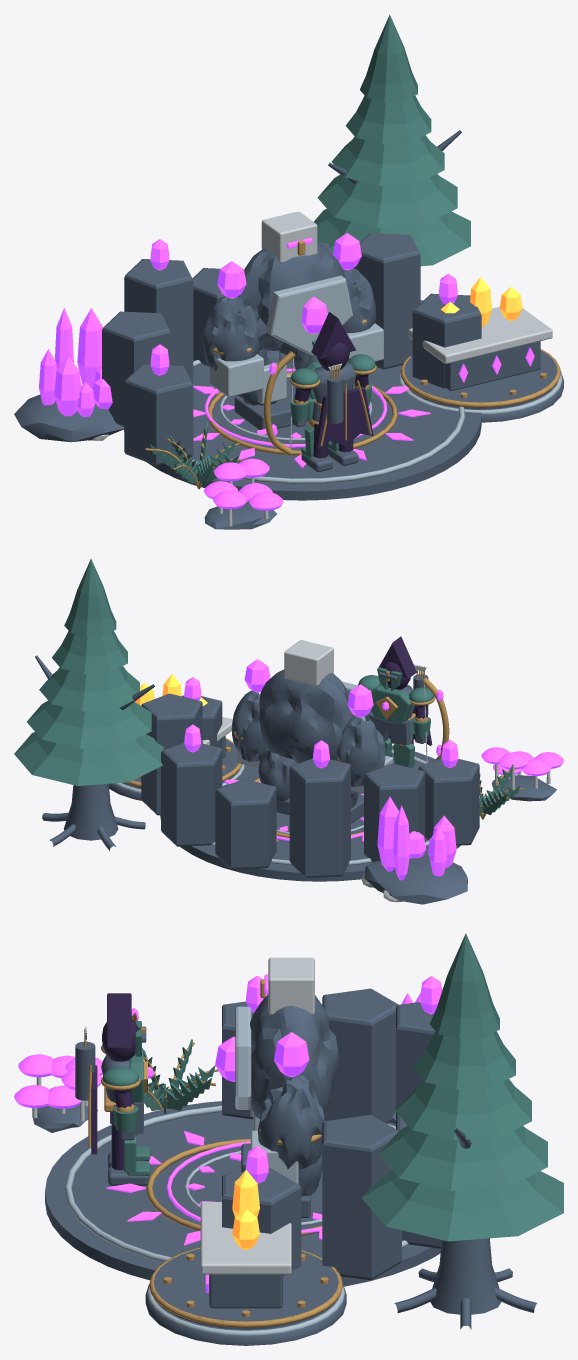
The model's file is moonsteel-convergence-obsidian-boss-pit-522724e0__18221.glb.
The picture shows the model from 3 angles, top to bottom: view 1: azimuth 30°, elevation 25°; view 2: azimuth 150°, elevation 25°; view 3: azimuth 270°, elevation 25°; orthographic projection. The views are drawn at different scales.
Visible parts, largest first — view 1: 001-boss-arena-rim/0, 005-moon-pine/1, 000-boss-arena-floor/0, 002-obsidian-warden/0, 002-obsidian-warden/1, 007-ember-offering-shrine/0, 004-amethyst-outcrop/1, 008-vesper-huntress/2, 007-ember-offering-shrine/3, 004-amethyst-outcrop/0, 009-spellcap-colony/2, 008-vesper-huntress/0 (+14 smaller); view 2: 001-boss-arena-rim/0, 005-moon-pine/1, 002-obsidian-warden/0, 004-amethyst-outcrop/1, 005-moon-pine/0, 000-boss-arena-floor/0, 004-amethyst-outcrop/0, 008-vesper-huntress/1, 002-obsidian-warden/4, 009-spellcap-colony/2, 001-boss-arena-rim/1, 008-vesper-huntress/0 (+8 smaller); view 3: 005-moon-pine/1, 001-boss-arena-rim/0, 000-boss-arena-floor/0, 002-obsidian-warden/0, 007-ember-offering-shrine/0, 005-moon-pine/0, 007-ember-offering-shrine/3, 008-vesper-huntress/2, 009-spellcap-colony/2, 008-vesper-huntress/1, 002-obsidian-warden/1, 008-vesper-huntress/0 (+13 smaller).
Part boxes in pixels (bbox=[...]): 001-boss-arena-rim/0: bbox=[102, 233, 481, 465]; 005-moon-pine/1: bbox=[314, 14, 470, 266]; 000-boss-arena-floor/0: bbox=[124, 353, 481, 500]; 002-obsidian-warden/0: bbox=[202, 243, 376, 429]; 002-obsidian-warden/1: bbox=[209, 275, 383, 404]; 007-ember-offering-shrine/0: bbox=[402, 341, 563, 422]; 004-amethyst-outcrop/1: bbox=[39, 308, 112, 416]; 008-vesper-huntress/2: bbox=[294, 312, 373, 458]; 007-ember-offering-shrine/3: bbox=[408, 307, 552, 363]; 004-amethyst-outcrop/0: bbox=[14, 394, 124, 442]; 009-spellcap-colony/2: bbox=[204, 458, 283, 510]; 008-vesper-huntress/0: bbox=[292, 362, 368, 471]; 001-boss-arena-rim/0: bbox=[141, 693, 479, 877]; 005-moon-pine/1: bbox=[14, 558, 163, 785]; 002-obsidian-warden/0: bbox=[231, 669, 385, 823]; 004-amethyst-outcrop/1: bbox=[377, 796, 456, 880]; 005-moon-pine/0: bbox=[35, 655, 154, 850]; 000-boss-arena-floor/0: bbox=[160, 745, 460, 881]; 004-amethyst-outcrop/0: bbox=[364, 854, 467, 904]; 008-vesper-huntress/1: bbox=[358, 667, 434, 768]; 002-obsidian-warden/4: bbox=[284, 640, 333, 685]; 009-spellcap-colony/2: bbox=[481, 747, 563, 775]; 001-boss-arena-rim/1: bbox=[184, 677, 458, 768]; 008-vesper-huntress/0: bbox=[369, 672, 428, 769]; 005-moon-pine/1: bbox=[362, 933, 563, 1241]; 001-boss-arena-rim/0: bbox=[222, 988, 441, 1280]; 000-boss-arena-floor/0: bbox=[45, 1101, 440, 1286]; 002-obsidian-warden/0: bbox=[241, 994, 338, 1217]; 007-ember-offering-shrine/0: bbox=[145, 1247, 346, 1345]; 005-moon-pine/0: bbox=[394, 1128, 536, 1329]; 007-ember-offering-shrine/3: bbox=[200, 1201, 291, 1274]; 008-vesper-huntress/2: bbox=[91, 993, 138, 1170]; 009-spellcap-colony/2: bbox=[14, 1054, 102, 1108]; 008-vesper-huntress/1: bbox=[102, 1021, 150, 1175]; 002-obsidian-warden/1: bbox=[235, 1006, 298, 1184]; 008-vesper-huntress/0: bbox=[75, 1026, 148, 1185].
Size of the model in its own units: 8.46 by 5.28 by 7.11.
